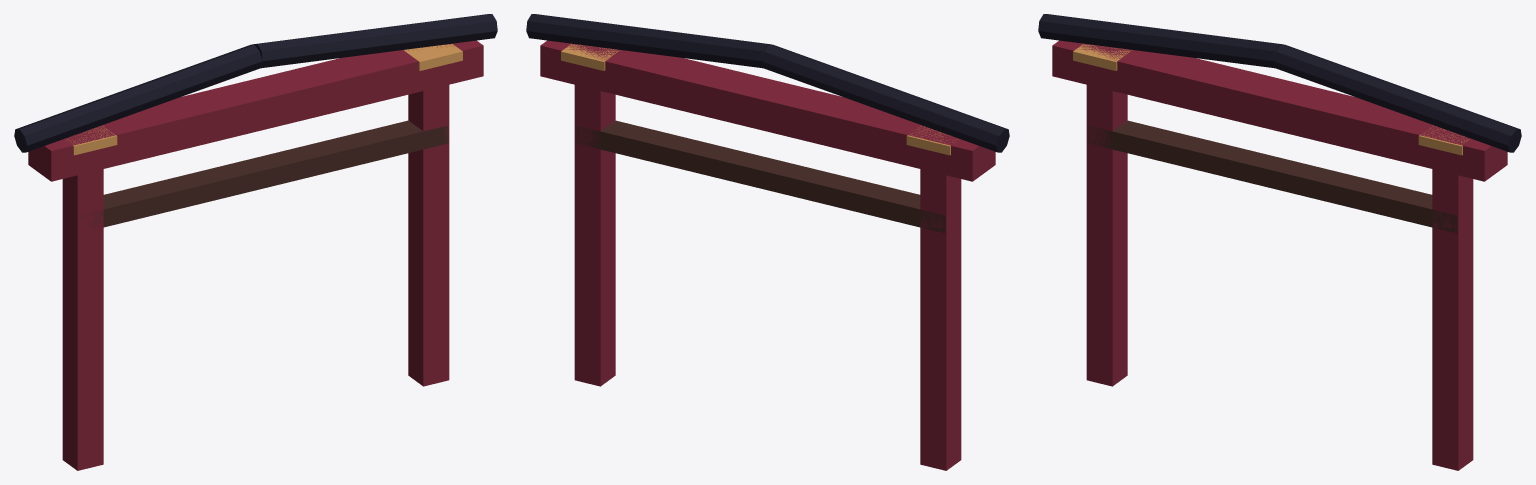
Rendered from moonfall_torii.obj.
3 views of the same model, side by side, from view 1: azimuth 30°, elevation 25°; view 2: azimuth 150°, elevation 25°; view 3: azimuth 330°, elevation 25° (orthographic).
Visible parts, largest first — view 1: moonfall_torii_02, moonfall_torii_00, moonfall_torii_01, moonfall_torii_03, moonfall_torii_06, moonfall_torii_07, moonfall_torii_05, moonfall_torii_04; view 2: moonfall_torii_02, moonfall_torii_00, moonfall_torii_01, moonfall_torii_03, moonfall_torii_06, moonfall_torii_07, moonfall_torii_05, moonfall_torii_04; view 3: moonfall_torii_02, moonfall_torii_01, moonfall_torii_00, moonfall_torii_03, moonfall_torii_07, moonfall_torii_06, moonfall_torii_04, moonfall_torii_05.
Boxes of the visible parts, x1,y1,x2,y2 form: moonfall_torii_02: (28,40,483,181); moonfall_torii_00: (62,169,103,470); moonfall_torii_01: (408,85,449,386); moonfall_torii_03: (78,120,448,229); moonfall_torii_06: (14,44,262,152); moonfall_torii_07: (252,14,497,68); moonfall_torii_05: (403,44,462,70); moonfall_torii_04: (66,126,117,155); moonfall_torii_02: (540,40,995,181); moonfall_torii_00: (920,169,961,470); moonfall_torii_01: (574,85,615,386); moonfall_torii_03: (575,120,945,233); moonfall_torii_06: (761,44,1009,152); moonfall_torii_07: (526,14,771,68); moonfall_torii_05: (561,44,618,70); moonfall_torii_04: (906,125,957,155); moonfall_torii_02: (1052,40,1507,181); moonfall_torii_01: (1432,169,1473,470); moonfall_torii_00: (1086,85,1127,386); moonfall_torii_03: (1087,120,1457,233); moonfall_torii_07: (1273,44,1521,152); moonfall_torii_06: (1038,14,1283,68); moonfall_torii_04: (1073,44,1131,70); moonfall_torii_05: (1418,125,1468,155).
Bounding box in the file's own units: 13.67 × 10.38 × 1.25.
